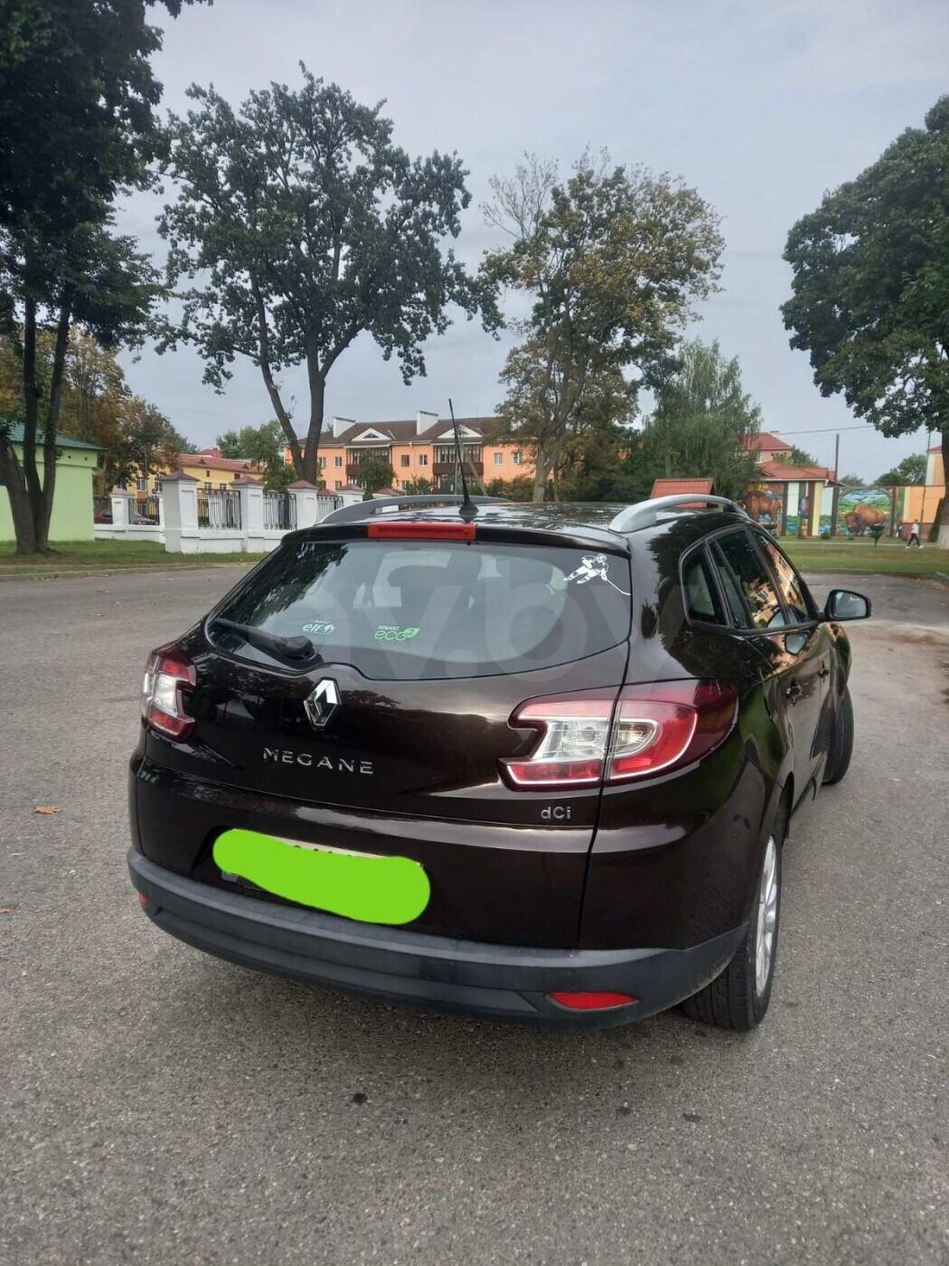Megane_2014-2016: (117, 488, 868, 1040)
